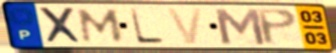L: (128, 7, 168, 46)
M: (211, 7, 268, 47), (77, 8, 126, 44)
P: (253, 7, 300, 47)
V: (164, 6, 205, 46)
X: (36, 6, 87, 45)
